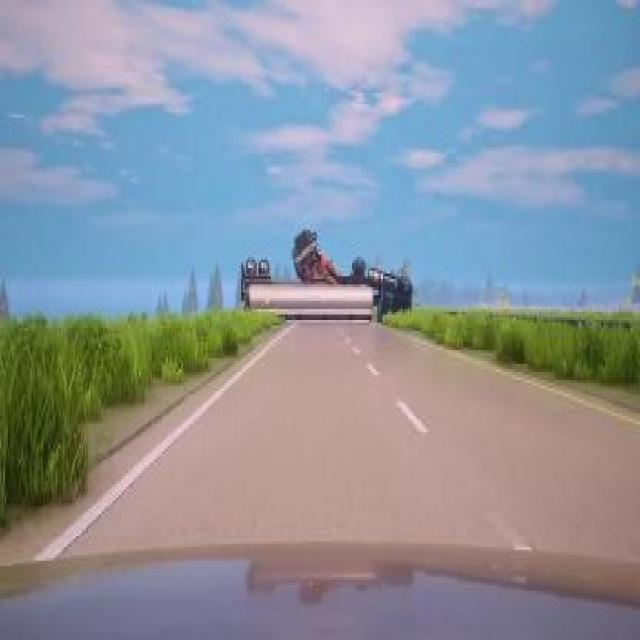accident: (235, 222, 416, 334)
